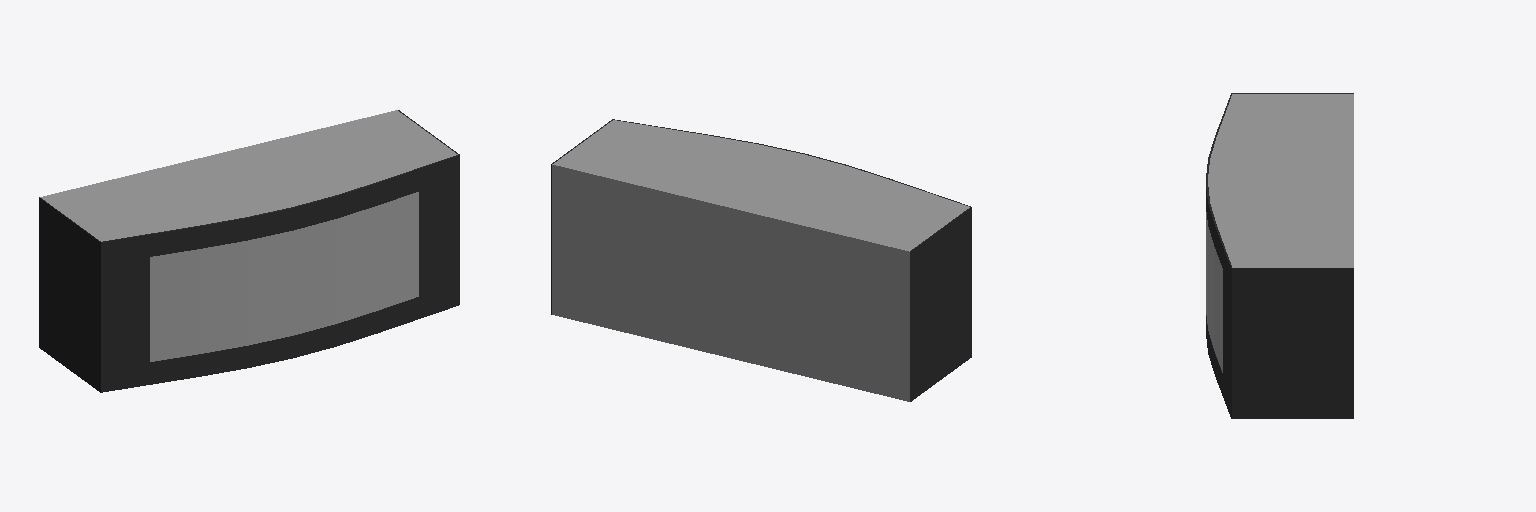
File: sconce_03.obj
The picture shows the model from 3 angles: view 1: azimuth 30°, elevation 25°; view 2: azimuth 150°, elevation 25°; view 3: azimuth 270°, elevation 25°; orthographic projection.
Visible parts, largest first — view 1: sconce_03; view 2: sconce_03; view 3: sconce_03.
Part boxes in pixels (left/top/right/bottom): sconce_03: left=39, top=110, right=459, bottom=392; sconce_03: left=551, top=119, right=971, bottom=401; sconce_03: left=1206, top=93, right=1353, bottom=418.
Size of the model in its own units: 0.0984 by 0.0394 by 0.0353.